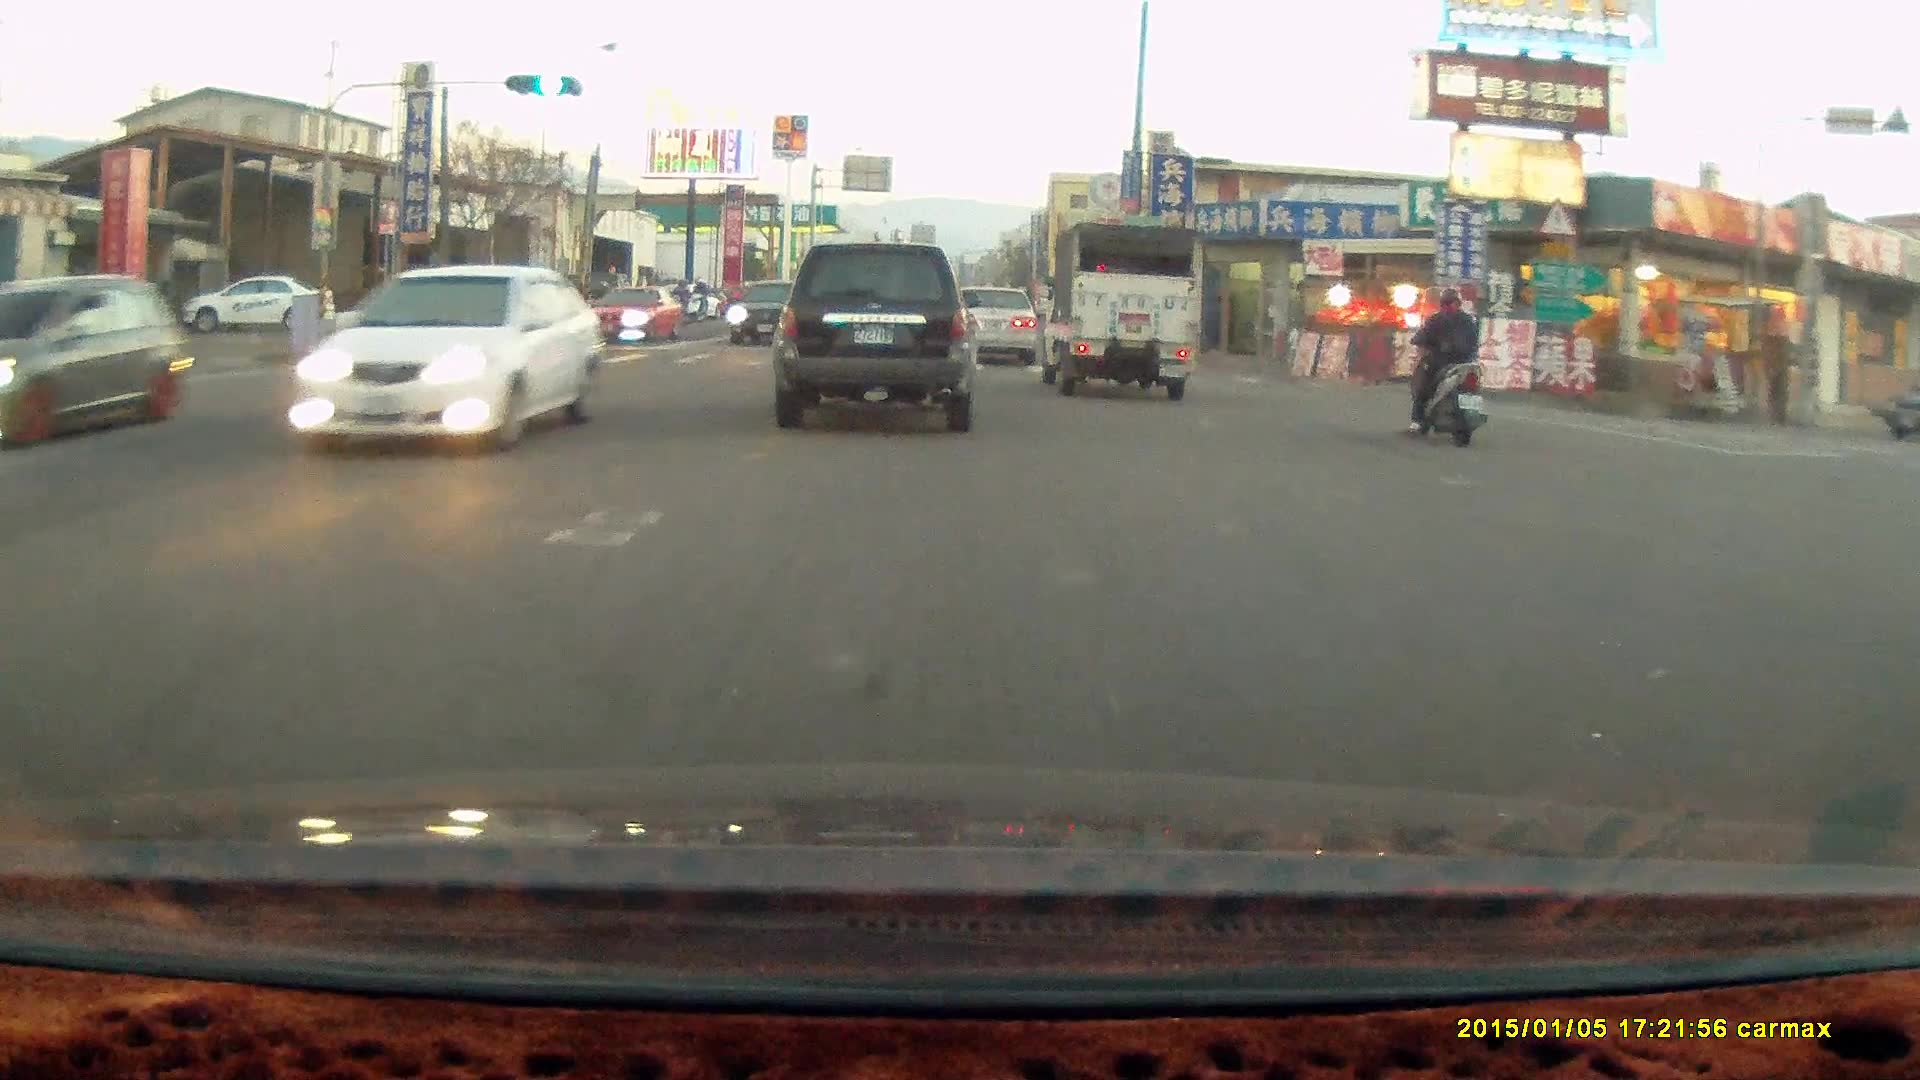rider: (1401, 285, 1488, 445), (682, 279, 710, 326)
vehicle: (294, 265, 608, 451), (770, 242, 980, 433), (1, 275, 195, 453), (1034, 220, 1202, 399), (397, 285, 564, 388), (941, 284, 1036, 367), (187, 279, 330, 332), (950, 287, 1040, 368), (727, 280, 826, 350), (590, 285, 684, 347)
